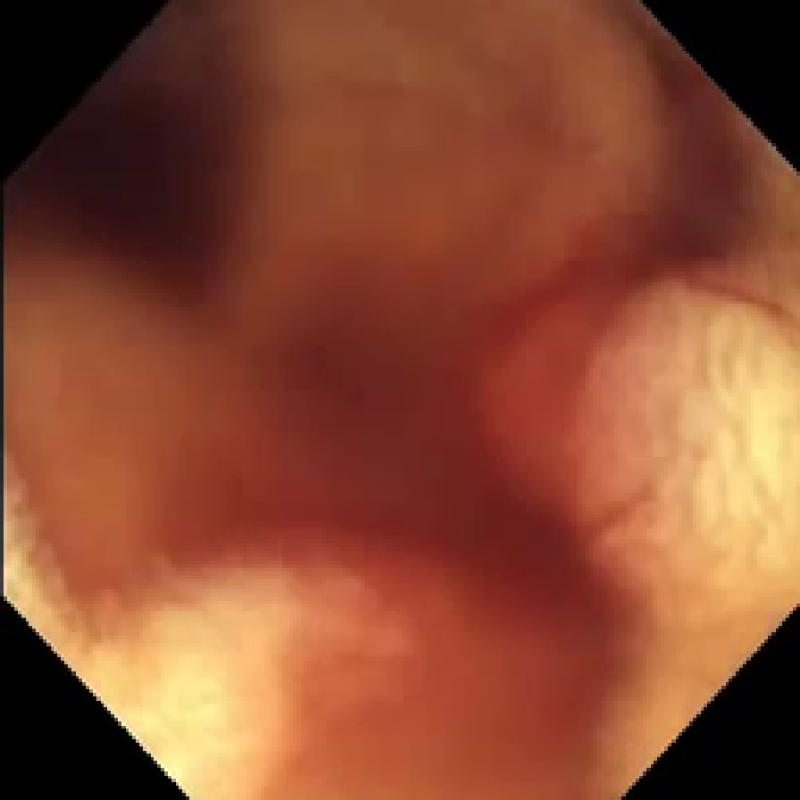bleeding: (222, 239, 704, 714)
